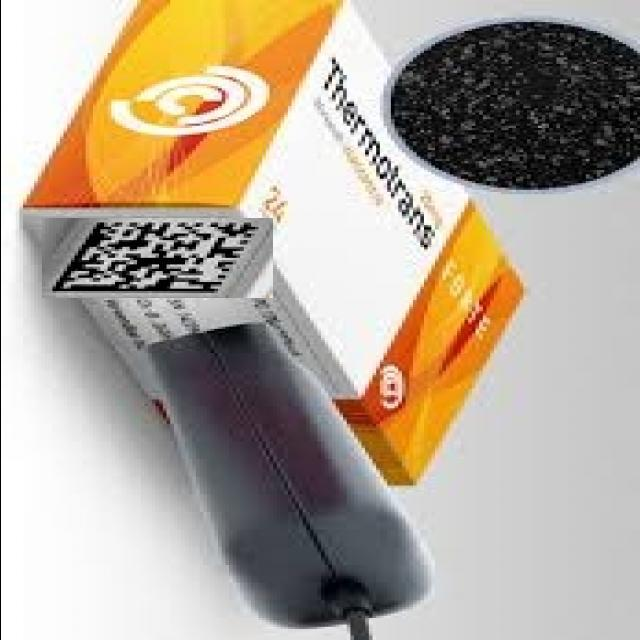Data-Matrix: (41, 218, 272, 298)
